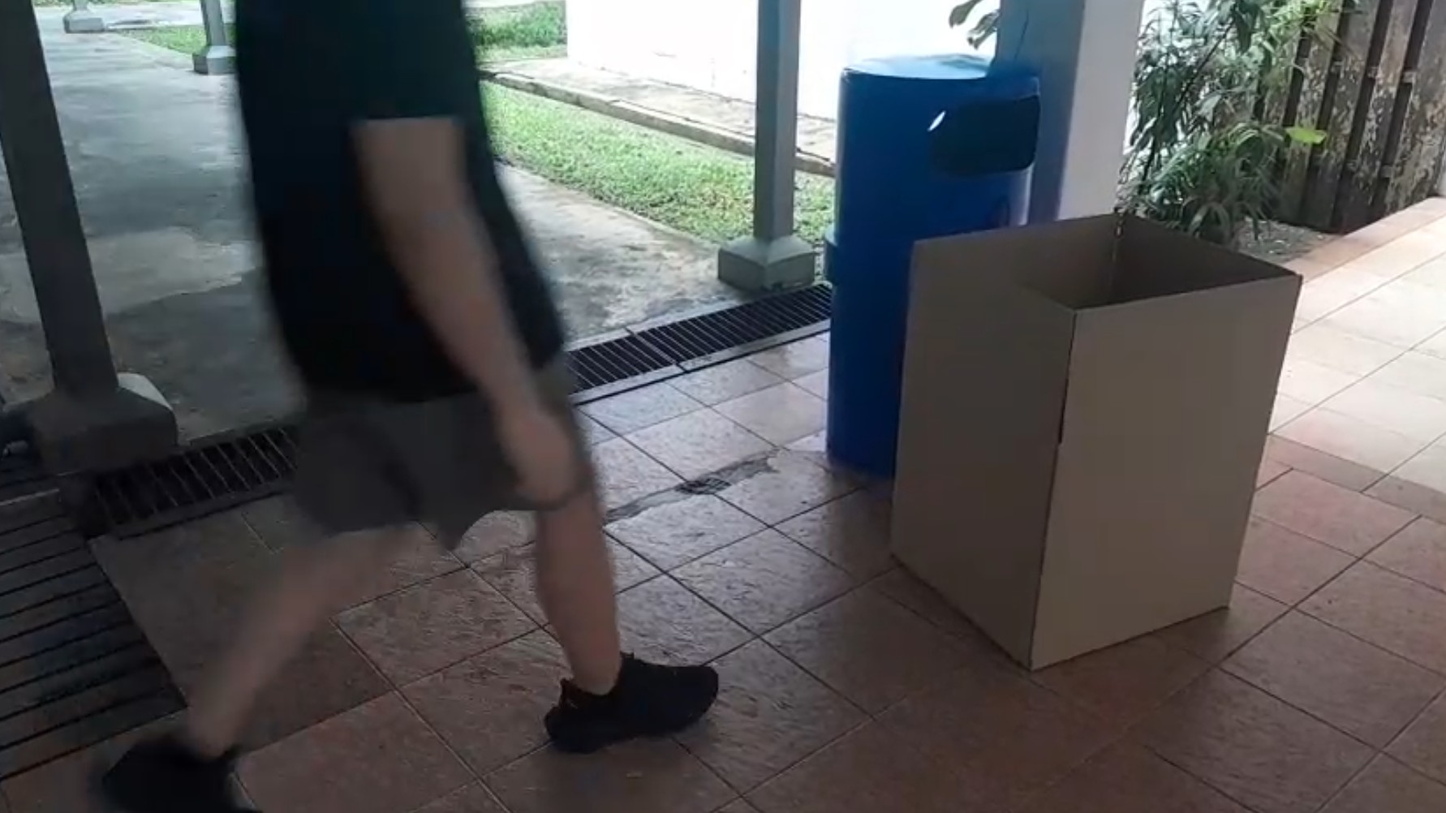bin_empty: (824, 55, 1039, 477)
bulk_waste: (891, 214, 1300, 666)
